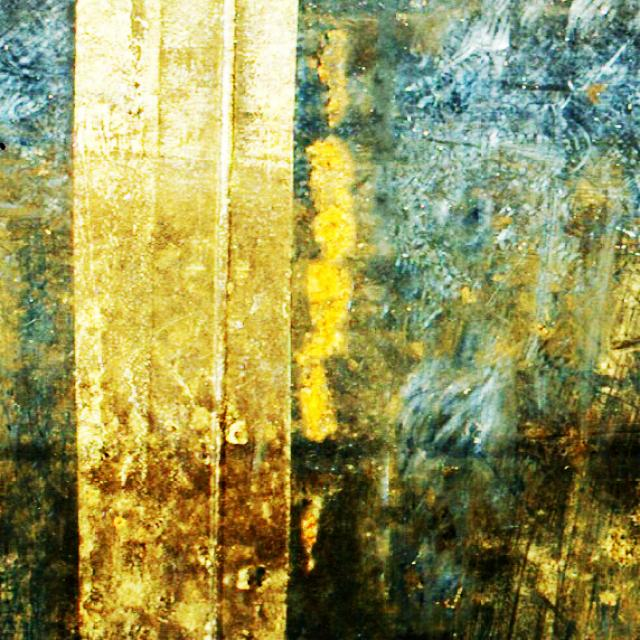Corrosion: (294, 262, 352, 373), (306, 139, 356, 262), (312, 29, 347, 126), (300, 366, 336, 442), (302, 513, 316, 545), (113, 517, 124, 529)
